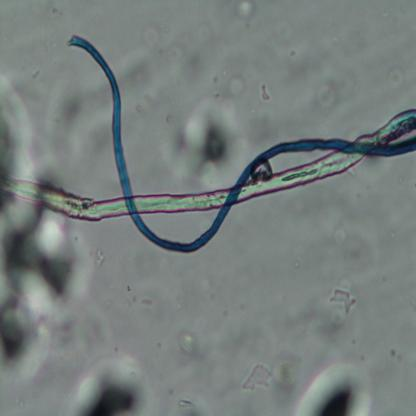Background material: (0, 199, 92, 376), (123, 19, 205, 102), (39, 76, 109, 165), (65, 354, 156, 415), (176, 98, 245, 175), (277, 30, 359, 84), (295, 357, 371, 415), (322, 224, 380, 281), (302, 67, 356, 122), (225, 70, 253, 104), (329, 283, 356, 318), (245, 361, 272, 394), (173, 331, 200, 358), (172, 390, 198, 412), (236, 1, 256, 25), (388, 66, 404, 92), (140, 293, 158, 312), (259, 83, 271, 102)
Cotton: (0, 36, 416, 254)
